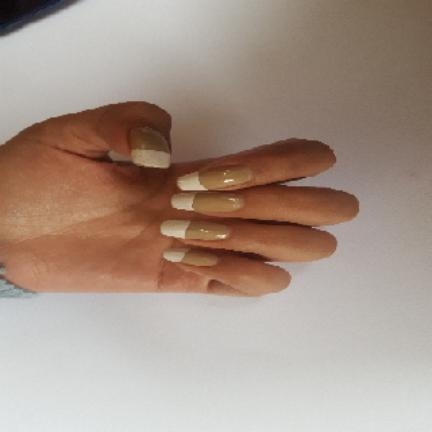Nail: (177, 166, 252, 191), (129, 127, 170, 168), (171, 192, 244, 213), (160, 220, 230, 240), (163, 248, 218, 267)
